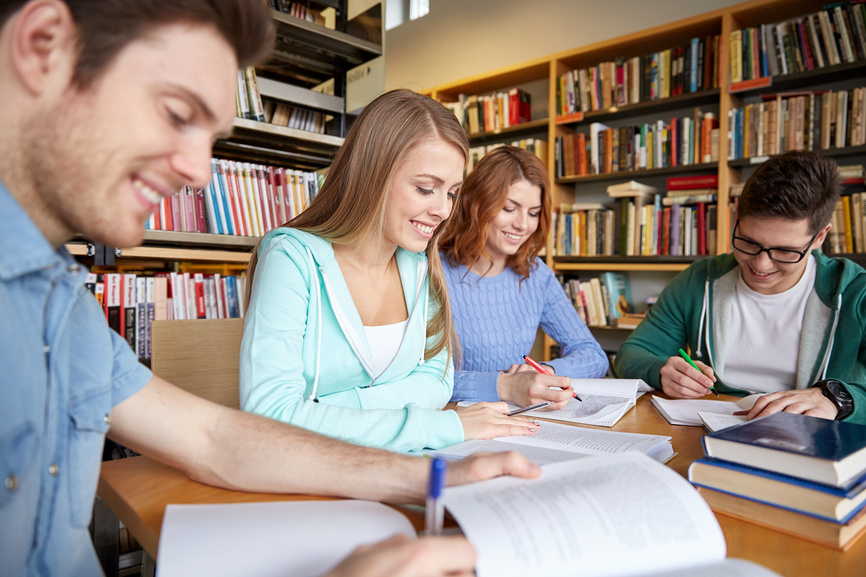students: (1, 1, 542, 574), (239, 88, 542, 450), (617, 150, 864, 422), (436, 145, 610, 415)
